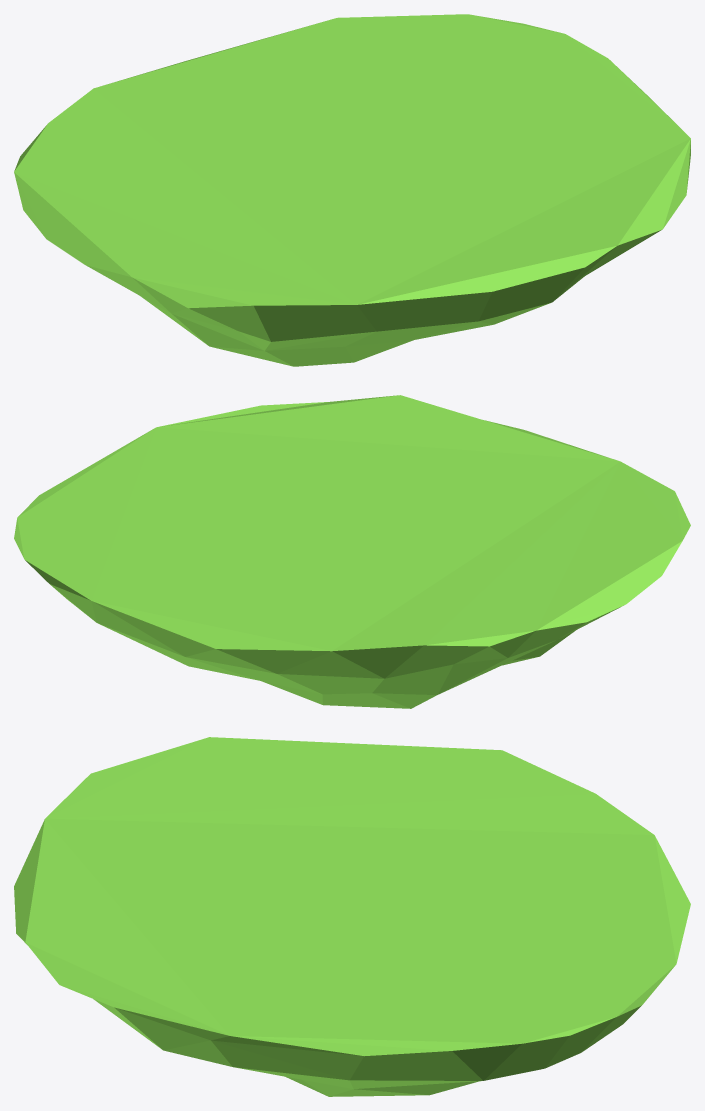
File: map2down 1.fbx
The picture shows the model from 3 angles, top to bottom: view 1: azimuth 30°, elevation 25°; view 2: azimuth 150°, elevation 25°; view 3: azimuth 270°, elevation 25°; orthographic projection. The views are drawn at different scales.
Visible parts, largest first — view 1: Plane.004; view 2: Plane.004; view 3: Plane.004.
Part boxes in pixels (x1,y1,x2,y2): Plane.004: (14,14,690,366); Plane.004: (14,395,690,708); Plane.004: (14,737,690,1096).
Bounding box in the file's own units: 3316 × 930 × 3066.
